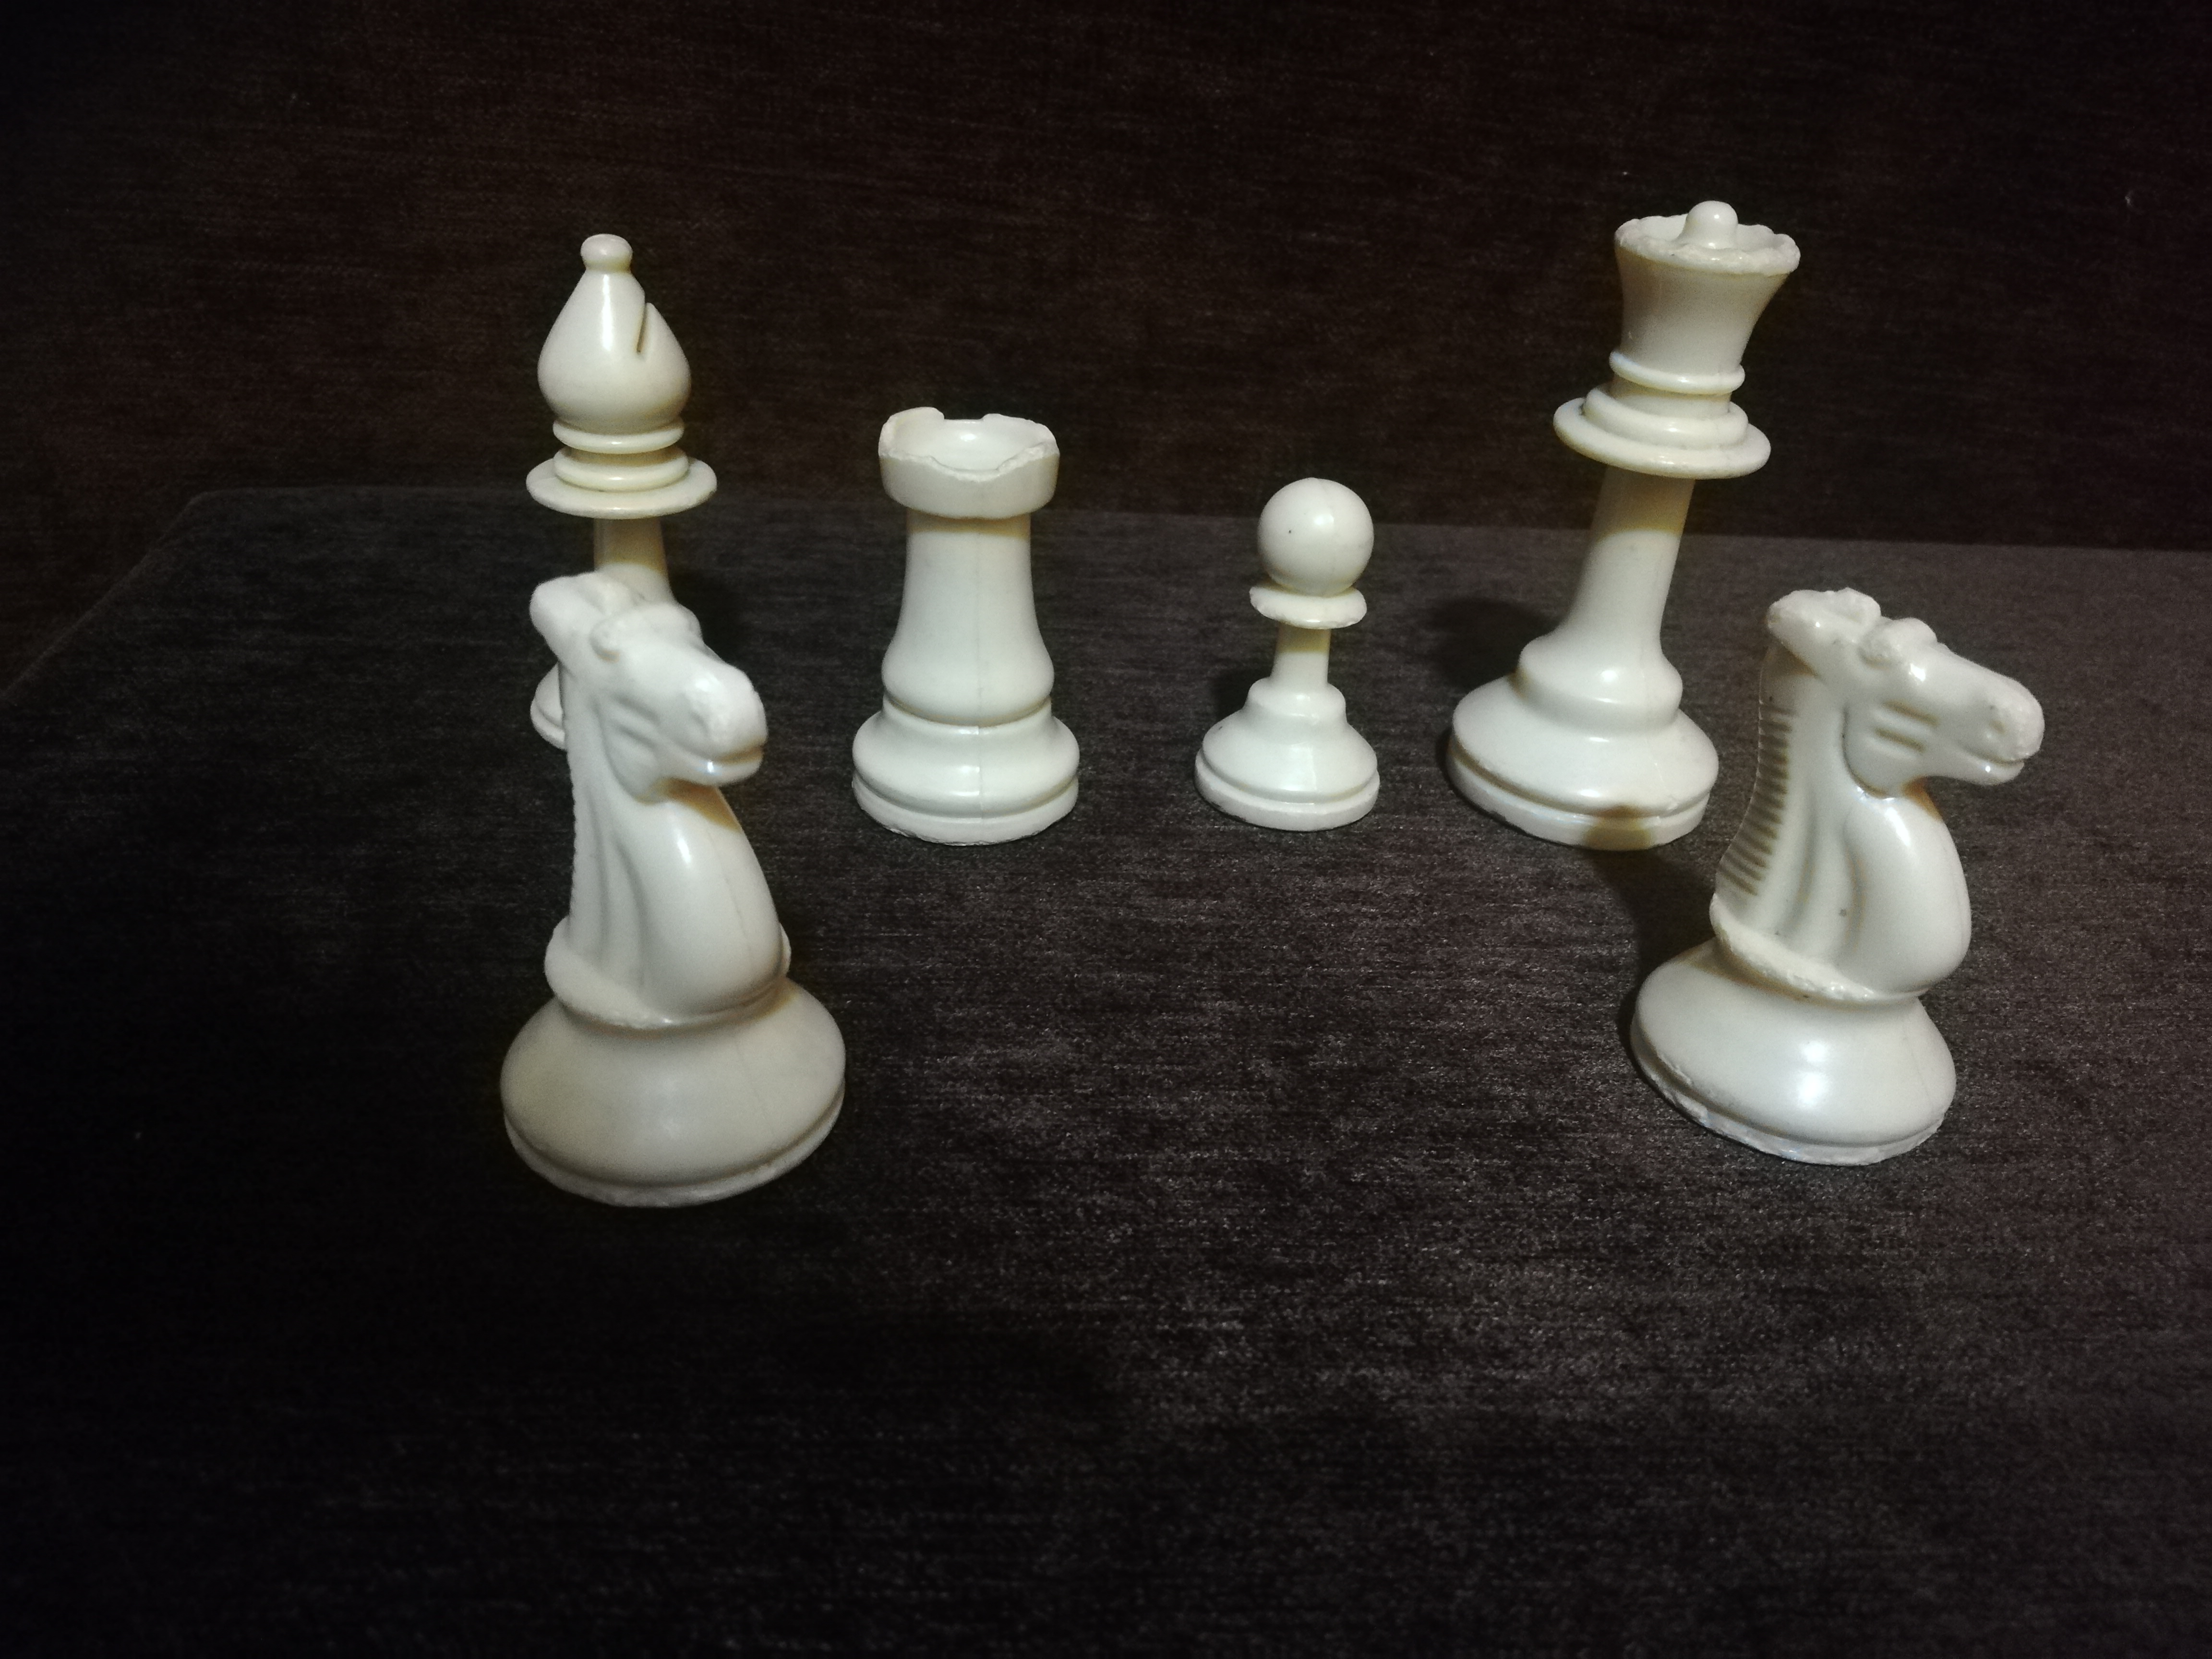Bishop: (490, 209, 765, 561)
Knight: (447, 568, 909, 1215), (1638, 577, 2063, 1174)
Pawn: (1185, 469, 1402, 826)
Queen: (1450, 189, 1805, 858)
Rook: (811, 381, 1121, 853)
